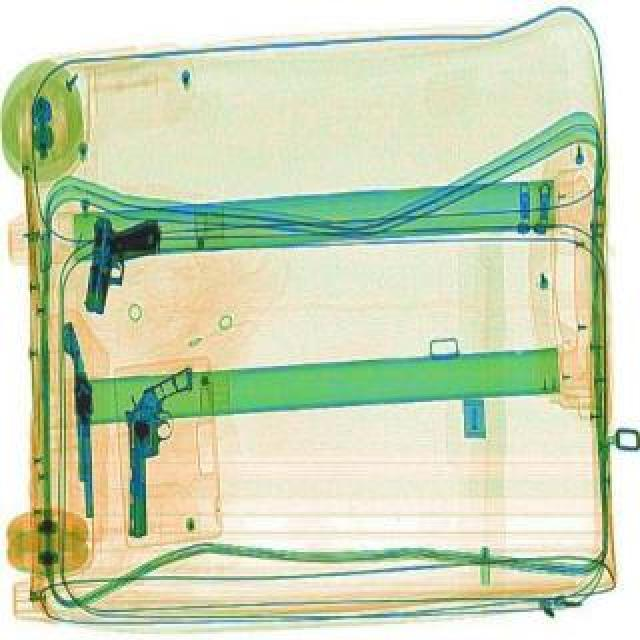gun: (114, 364, 202, 540), (80, 210, 162, 318), (64, 322, 100, 528)
